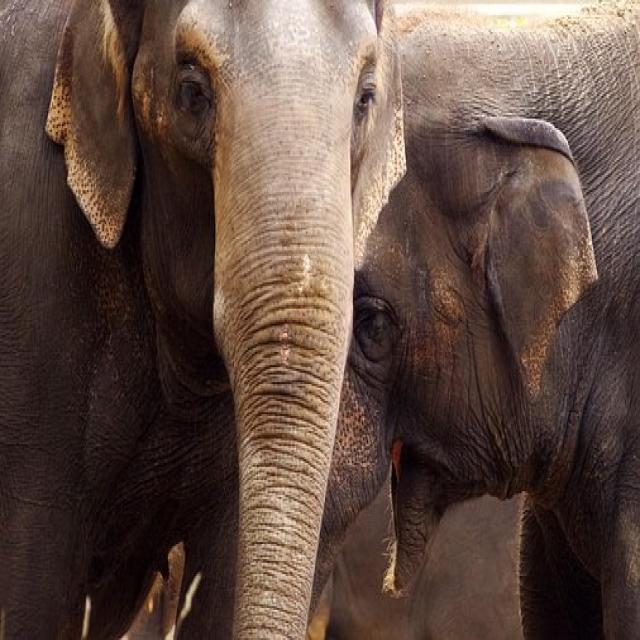Elephant: (61, 0, 416, 640), (312, 0, 640, 637)
